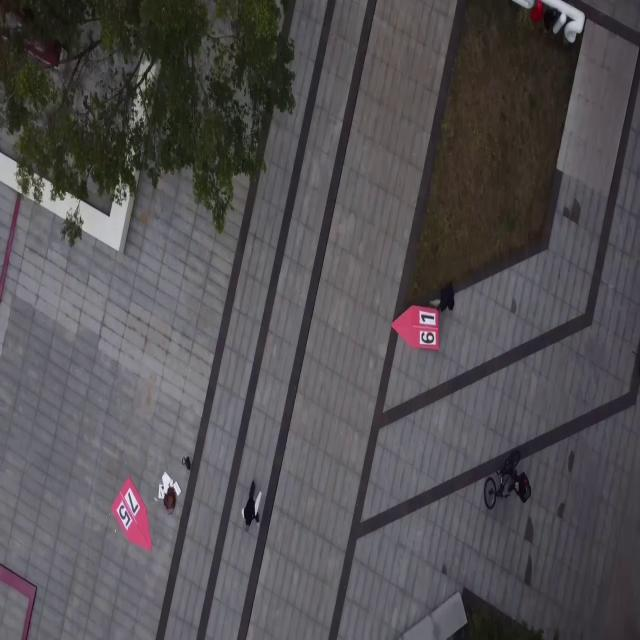-sign-: (110, 475, 152, 553), (390, 303, 440, 351)
